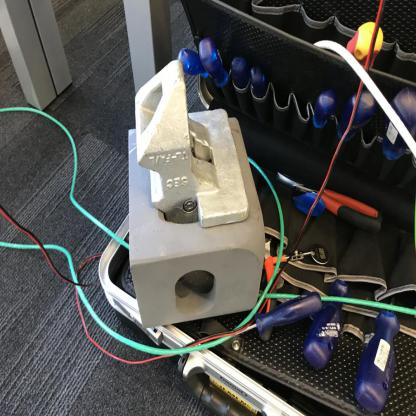CornerCasting: (127, 193, 268, 329)
Twistlock: (130, 53, 258, 228)
